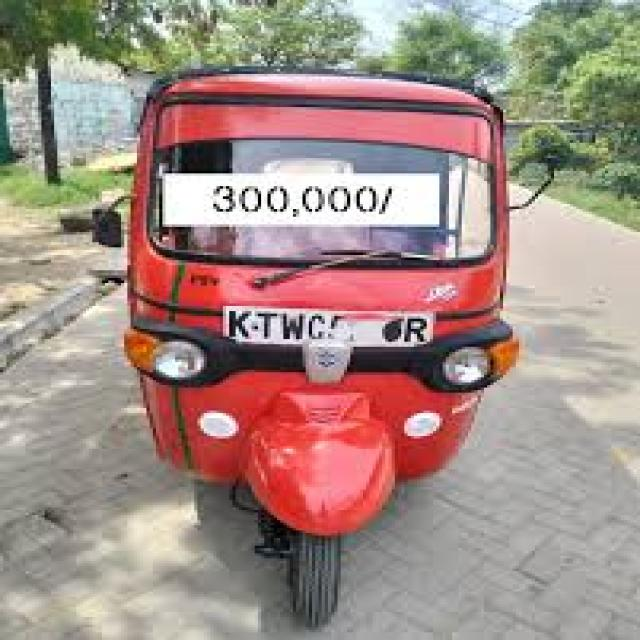tuktuk: (36, 5, 588, 638)
